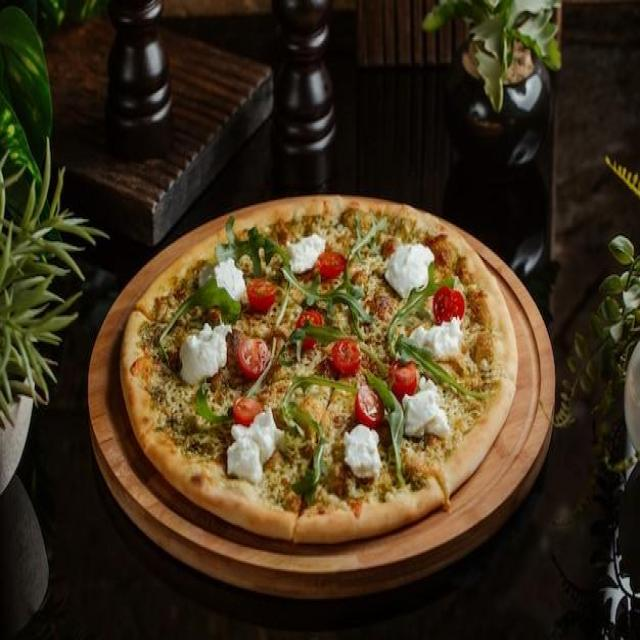basil: (269, 376, 358, 506), (391, 333, 489, 408), (386, 264, 458, 364), (281, 267, 374, 341), (275, 326, 388, 385), (280, 268, 371, 341), (159, 274, 241, 344), (364, 375, 405, 490), (223, 212, 283, 276), (341, 211, 388, 276), (195, 380, 233, 426)
pizza: (121, 195, 518, 543)
